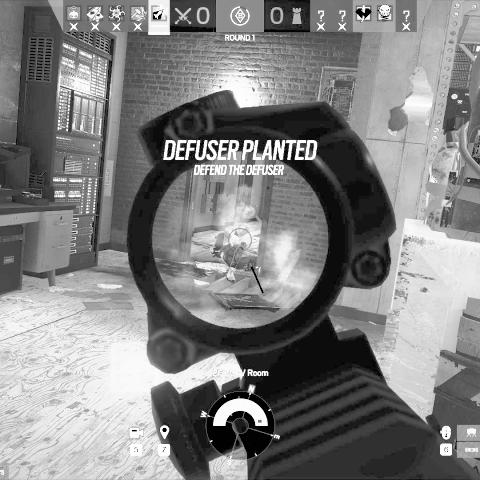Character: (213, 222, 263, 283)
Head: (236, 222, 250, 237)
